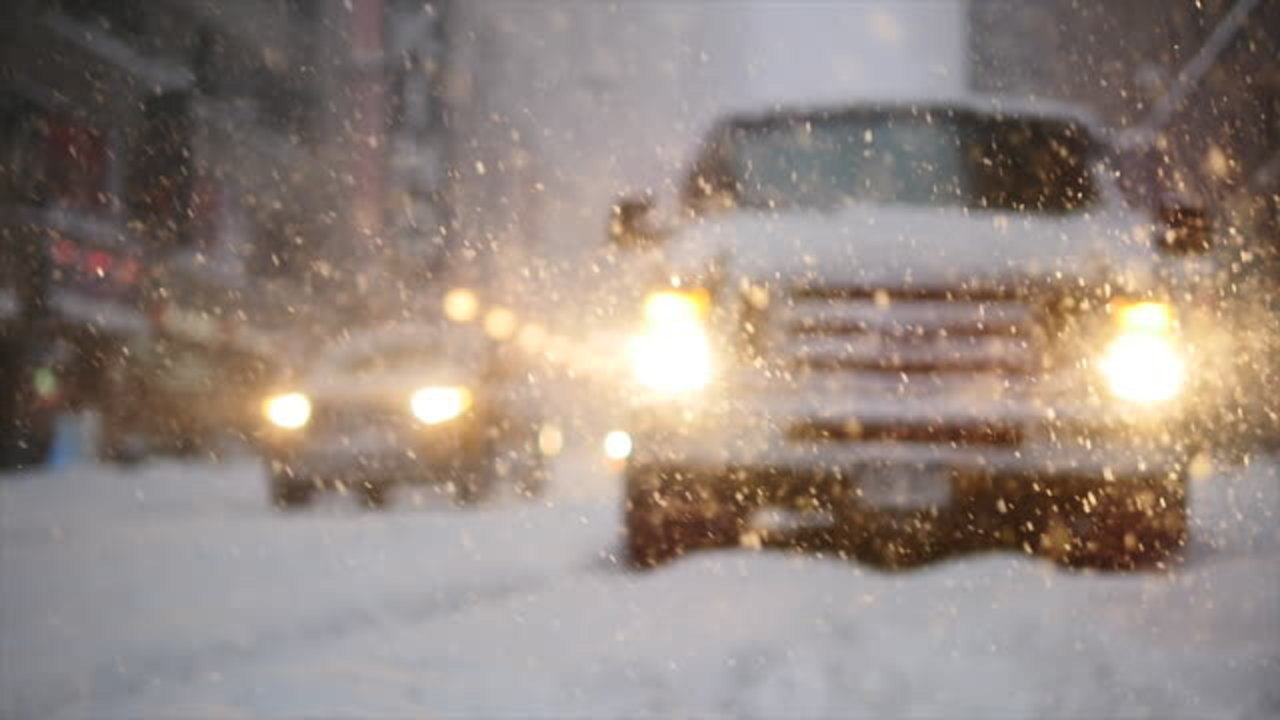car: (614, 94, 1201, 566), (258, 315, 543, 504)
